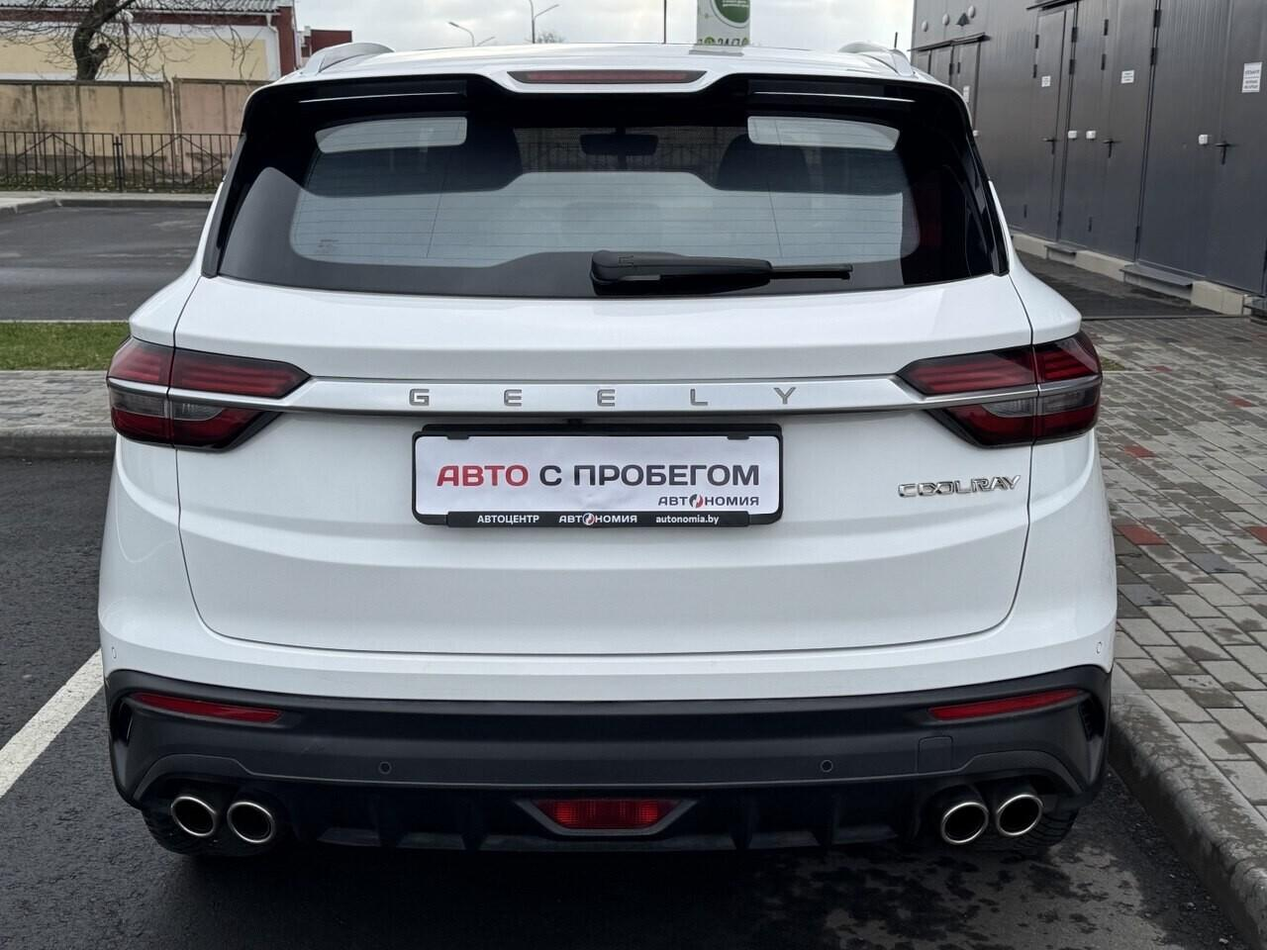Coolray_2019-2023: (83, 33, 1130, 899)
